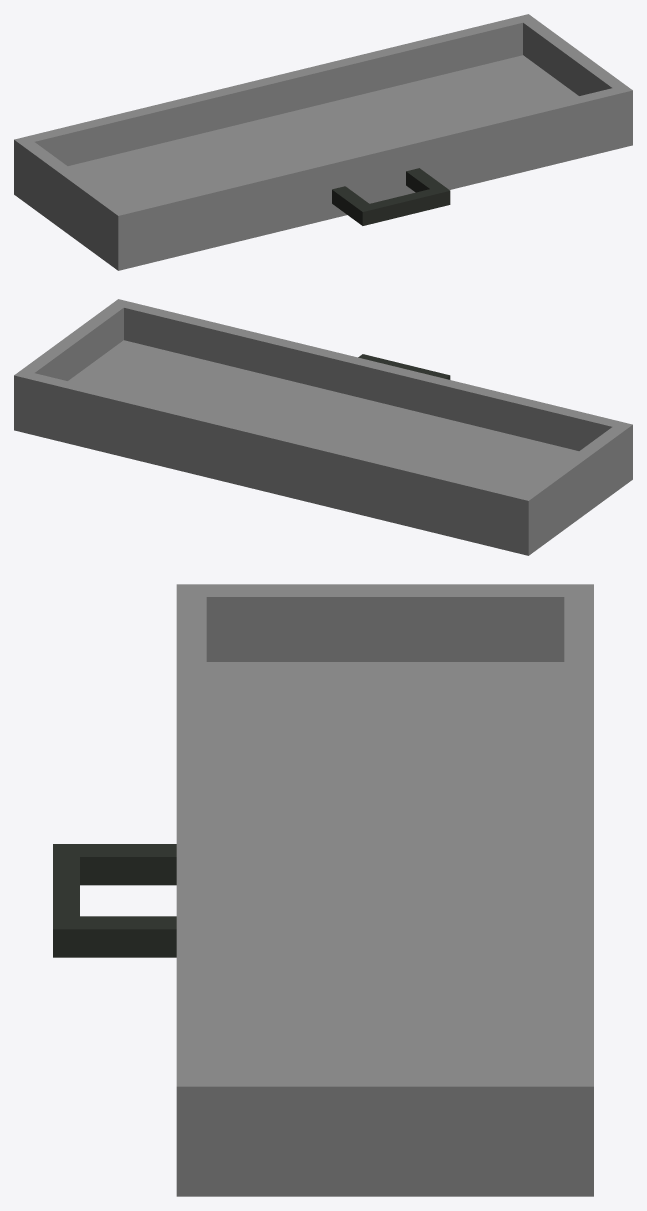
The model's file is SM_drawer_lone.fbx.
The picture shows the model from 3 angles, top to bottom: view 1: azimuth 30°, elevation 25°; view 2: azimuth 150°, elevation 25°; view 3: azimuth 270°, elevation 25°; orthographic projection. The views are drawn at different scales.
Visible parts, largest first — view 1: drawer_lone; view 2: drawer_lone; view 3: drawer_lone.
Boxes of the visible parts, left/top/right/bottom form: drawer_lone: left=14, top=14, right=632, bottom=270; drawer_lone: left=14, top=299, right=632, bottom=555; drawer_lone: left=53, top=584, right=593, bottom=1196.
Bounding box in the file's own units: 81.24 × 8.29 × 37.
